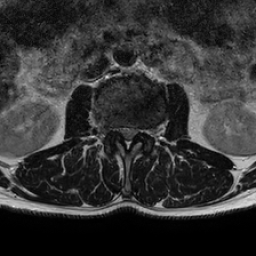CCS_normal: (124, 120, 131, 154)
LFS_severe_stenosis: (139, 122, 148, 139)
LLS_stenosis: (131, 121, 138, 144)
RFS_severe_stenosis: (109, 118, 117, 138)
RLS_stenosis: (116, 118, 124, 144)
